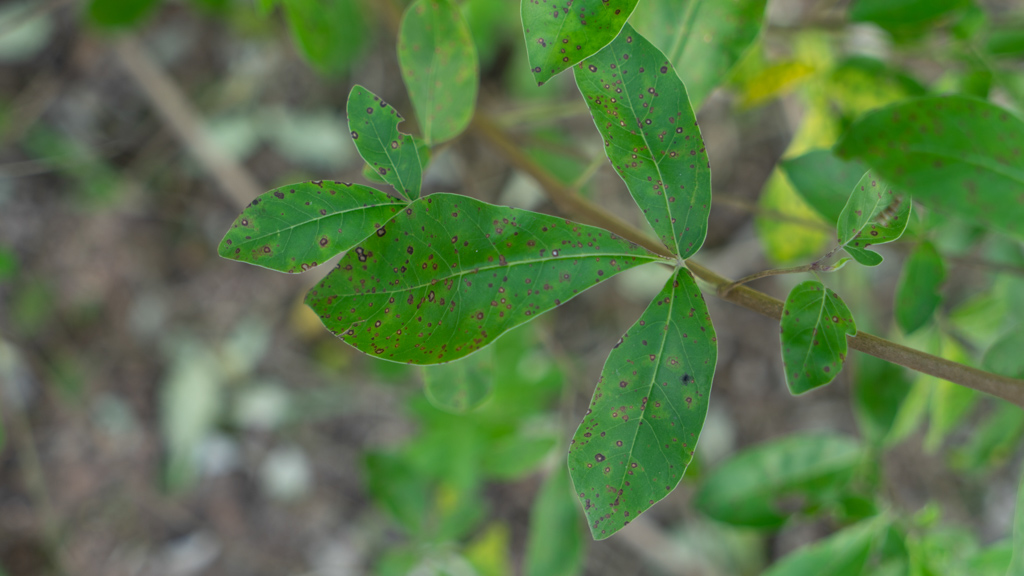Alternaria brassicicola: (304, 210, 627, 375), (567, 278, 720, 551), (580, 43, 709, 263), (210, 171, 390, 277), (783, 278, 858, 396), (847, 151, 919, 265)
